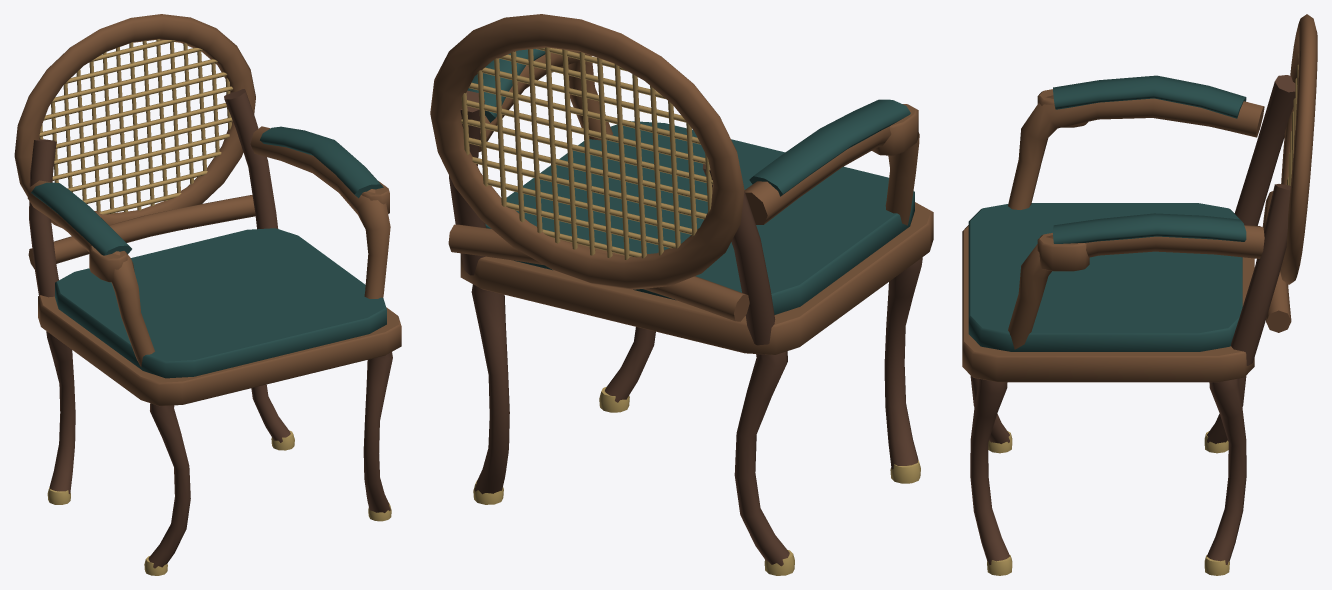
Rendered from rpg-mansion-caned-bergere-01.glb.
3 renders of one model, left to right at view 1: azimuth 30°, elevation 25°; view 2: azimuth 150°, elevation 25°; view 3: azimuth 270°, elevation 25°, orthographic. The views are drawn at different scales.
Visible parts, largest first — view 1: rpg-mansion-caned-bergere-01; view 2: rpg-mansion-caned-bergere-01; view 3: rpg-mansion-caned-bergere-01.
Boxes of the visible parts, box(x1,y1,x2,y2) form: rpg-mansion-caned-bergere-01: box(14, 14, 401, 575); rpg-mansion-caned-bergere-01: box(430, 14, 933, 575); rpg-mansion-caned-bergere-01: box(962, 14, 1317, 575).
Size of the model in its own units: 0.646 by 0.912 by 0.615.
